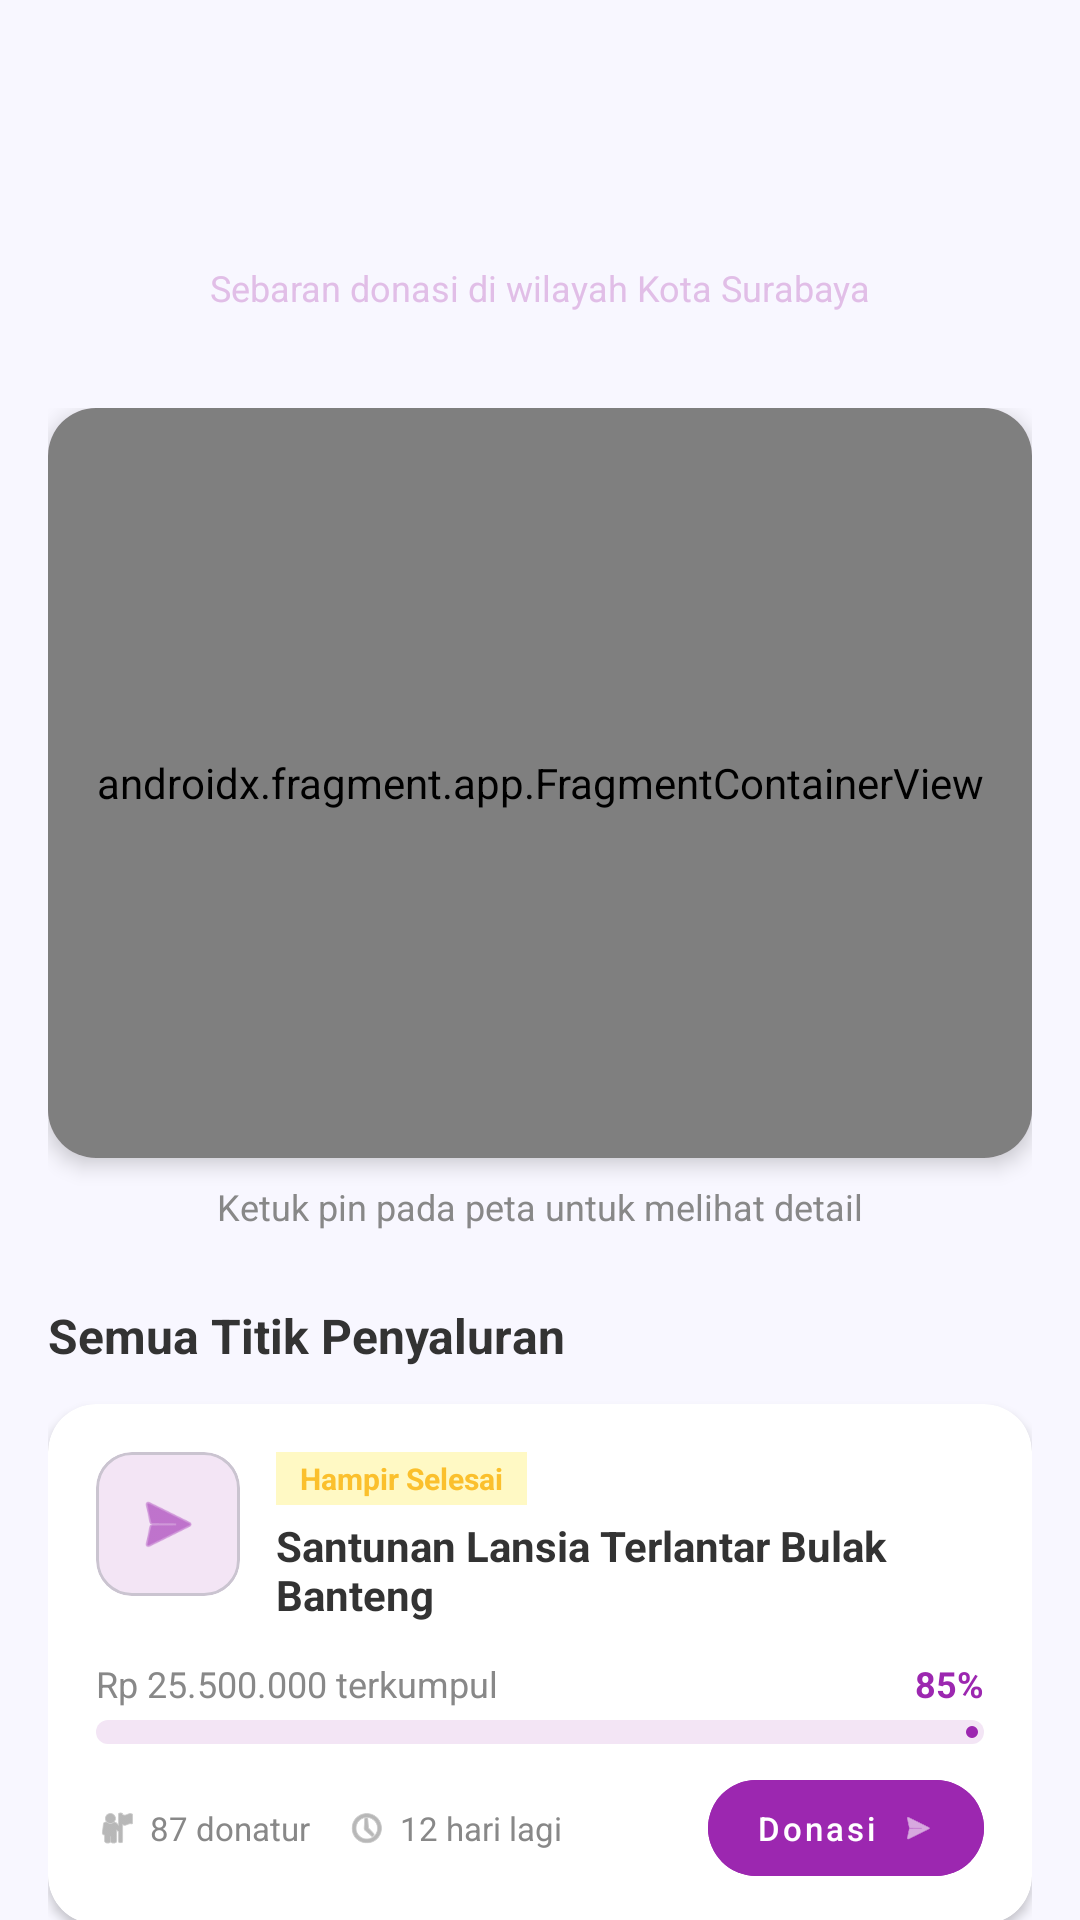

Screen size 1080x1920. Icon name, then its center in pixels as (x=x, y=y):
Waktu: (x=367, y=1828)
